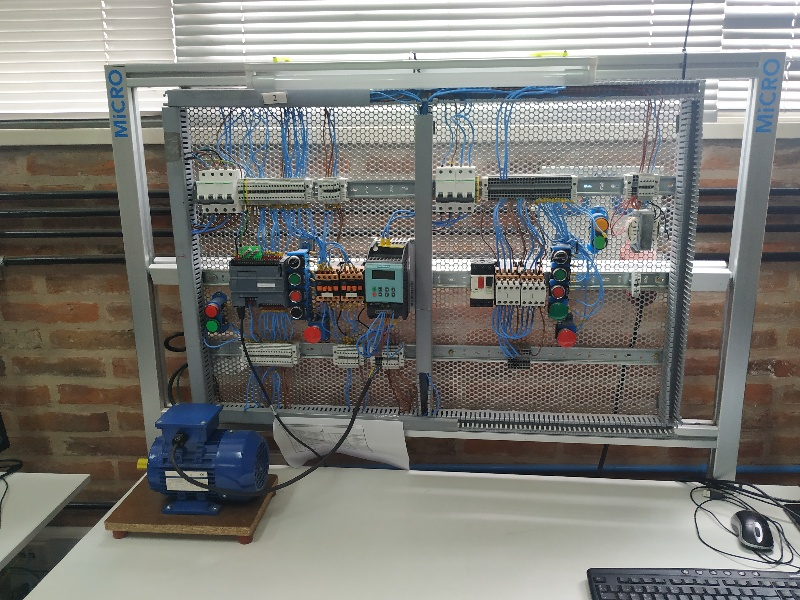Tablero 2: (178, 103, 677, 435)
